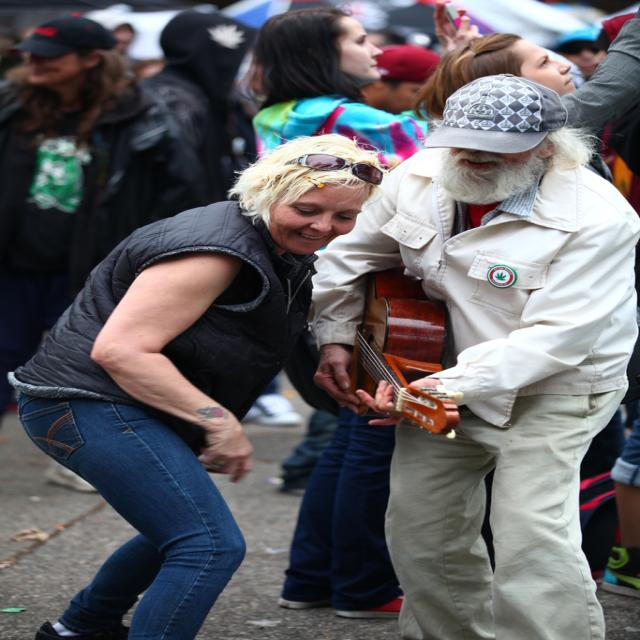Hat: (421, 70, 567, 152), (6, 9, 119, 62), (374, 42, 440, 84)
